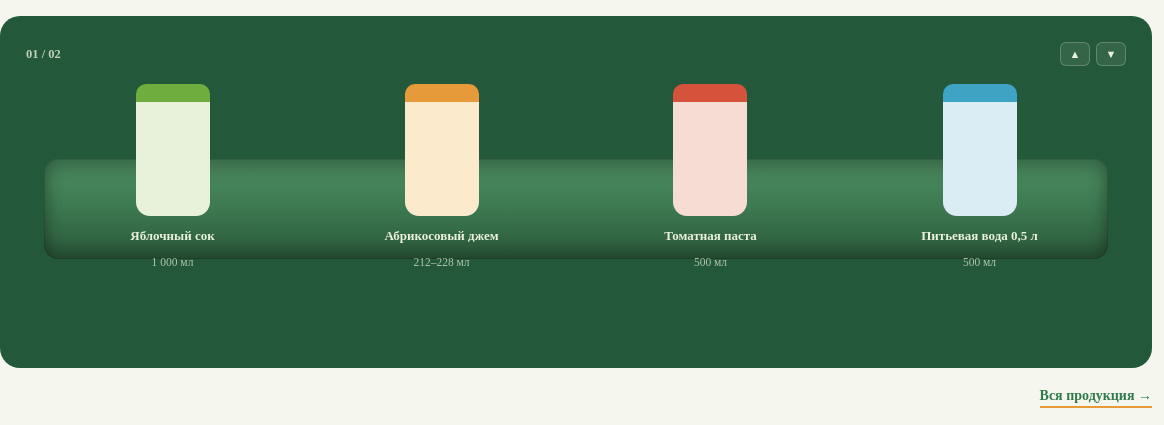
Scenario: Assembly line › shows four products at a time and pages between batches
Expected: the text "Яблочный сок" is shown, [130, 228, 215, 244]
Expected: the text "Питьевая вода 0,5 л" is shown, [921, 228, 1038, 244]
Step 1. Click the button named "Следующая партия" → (1111, 54), box [1096, 42, 1126, 66]
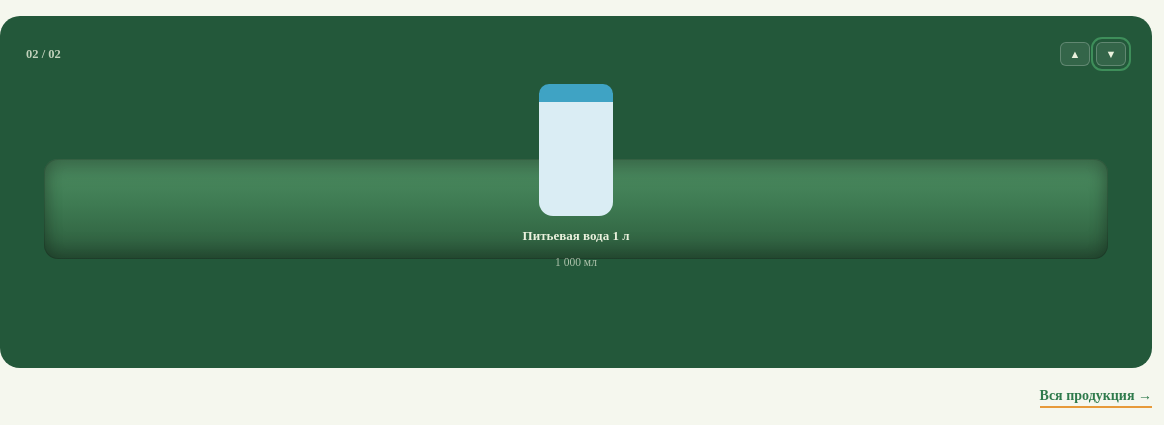
Expected: the text "Питьевая вода 1 л" is shown, [523, 228, 630, 244]
Expected: the button "Яблочный сок" is gone
Expected: the text "02 / 02" is shown, [26, 46, 61, 62]
